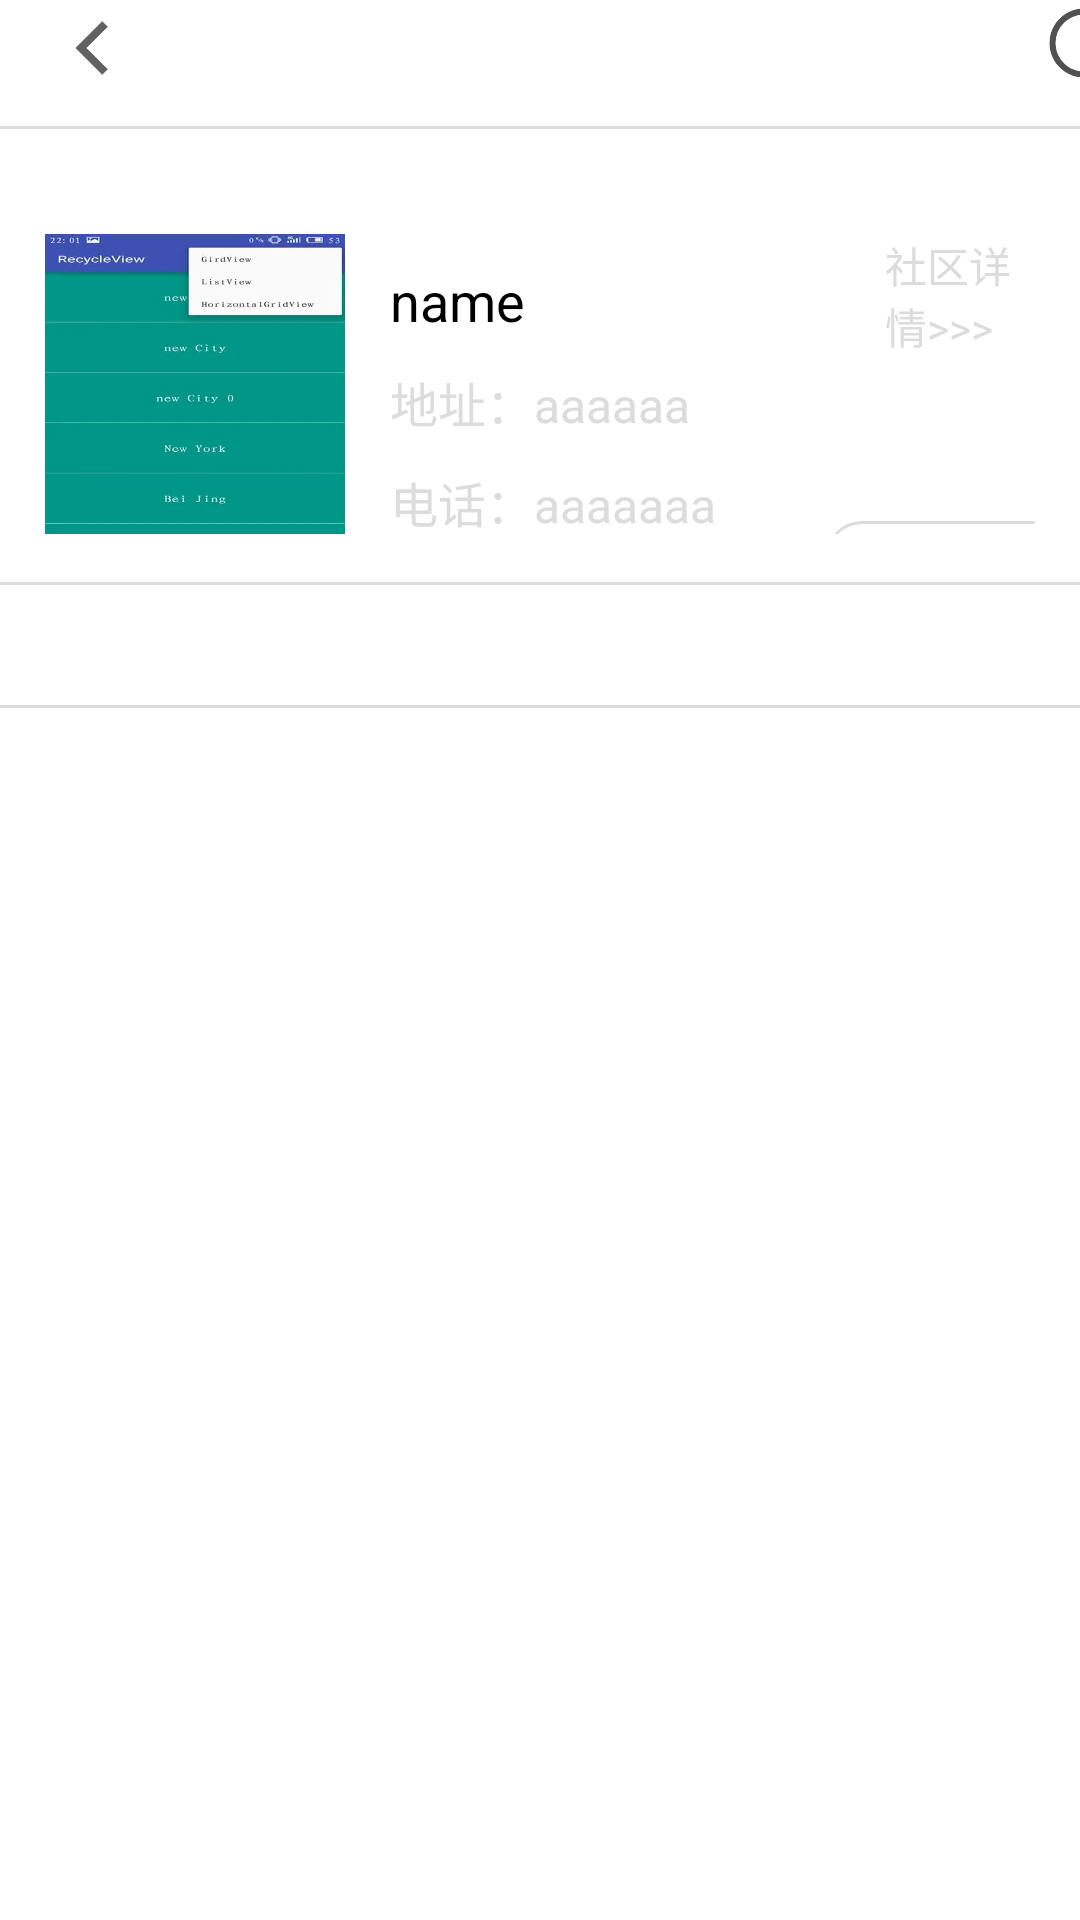

Locate icon controls on the screen. Image size 1080×1920, boxes as (x1, y1, x2, y2).
back: (76, 21, 108, 75)
